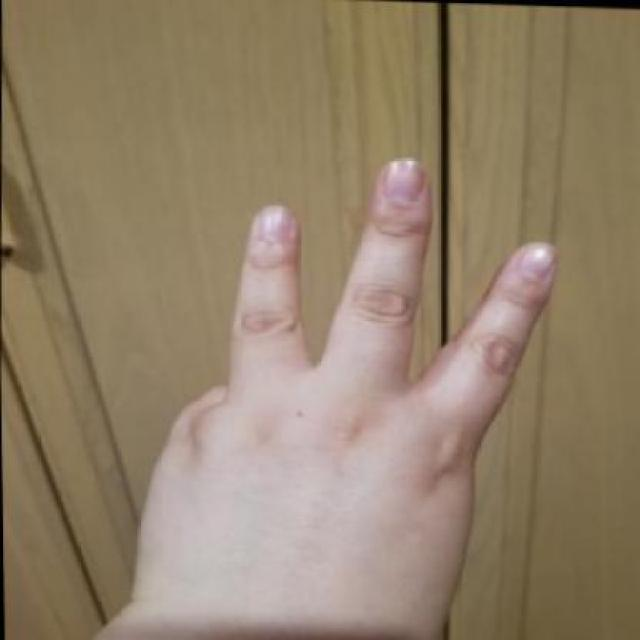W: (102, 140, 576, 638)
